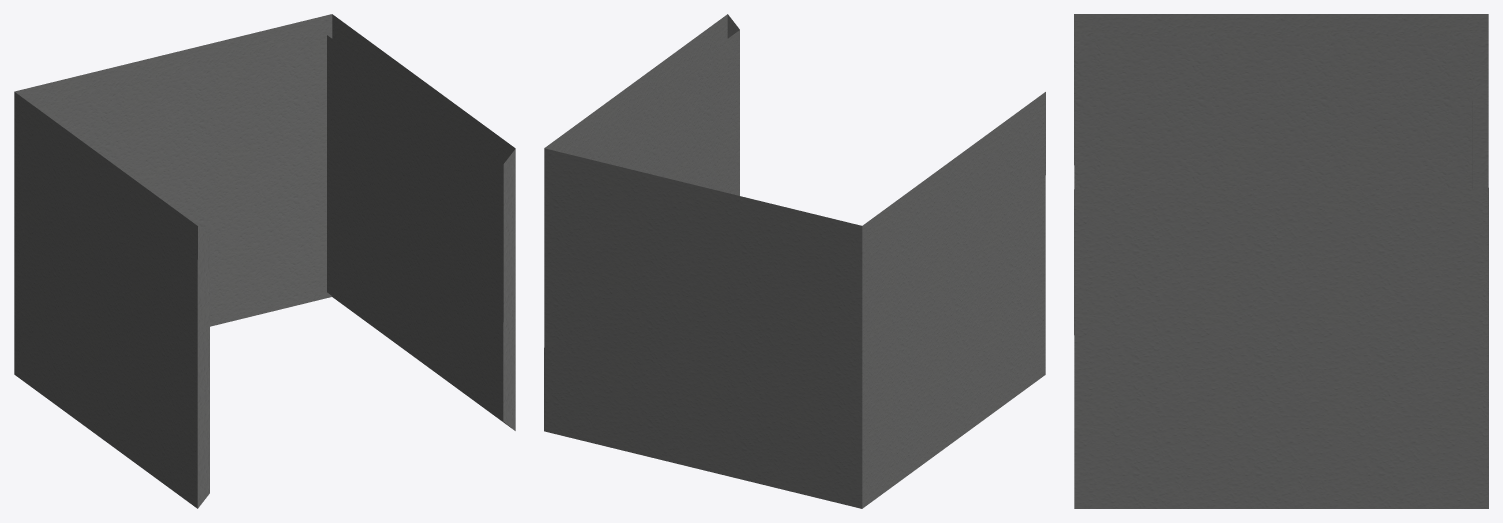
The picture shows the model from 3 angles, left to right: view 1: azimuth 30°, elevation 25°; view 2: azimuth 150°, elevation 25°; view 3: azimuth 270°, elevation 25°; orthographic projection. The views are drawn at different scales.
Parts seen in each view (by area): view 1: FP204:polySurface51_bc15cb53; view 2: FP204:polySurface51_bc15cb53; view 3: FP204:polySurface51_bc15cb53.
Part boxes in pixels (x1,y1,x2,y2): FP204:polySurface51_bc15cb53: (14, 14, 515, 508); FP204:polySurface51_bc15cb53: (544, 14, 1045, 508); FP204:polySurface51_bc15cb53: (1074, 14, 1488, 508).
Bounding box in the file's own units: 3.38 × 2.87 × 3.38.
